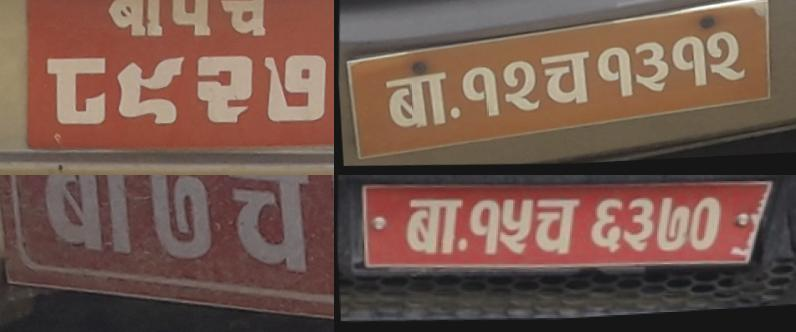0: (29, 175, 140, 263), (688, 196, 724, 260)
1: (665, 34, 710, 104), (453, 64, 504, 124), (463, 196, 504, 268), (590, 45, 636, 106)
2: (184, 49, 257, 135), (496, 58, 542, 126), (701, 33, 750, 95)
3: (629, 42, 672, 106), (621, 197, 658, 259)
5: (496, 198, 538, 262), (161, 0, 215, 46)
6: (587, 197, 627, 264)
7: (139, 175, 216, 265), (256, 48, 333, 137), (653, 198, 692, 260)
8: (35, 48, 115, 135)
9: (218, 175, 313, 283), (111, 49, 188, 137)
ba: (377, 68, 453, 136), (401, 195, 467, 267), (97, 0, 166, 45)
cha: (535, 48, 594, 116), (532, 199, 585, 267), (211, 0, 274, 49)
